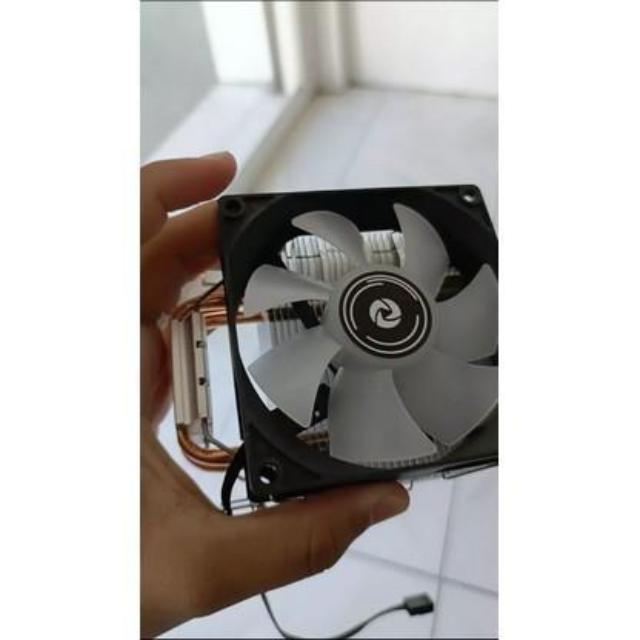CPU_Fan: (167, 179, 499, 513)
